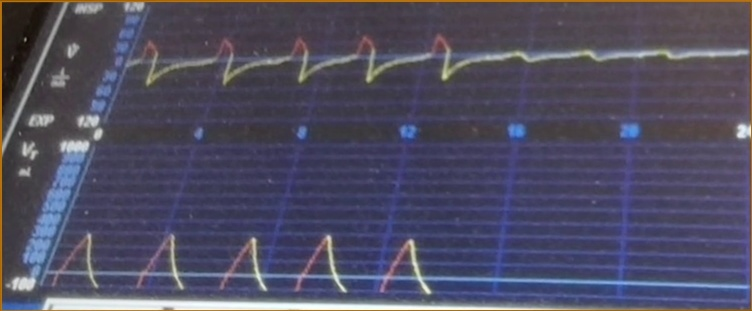Ineffective_effort Flow: (134, 23, 730, 104)
Ineffective_effort Volume: (53, 219, 569, 300)
